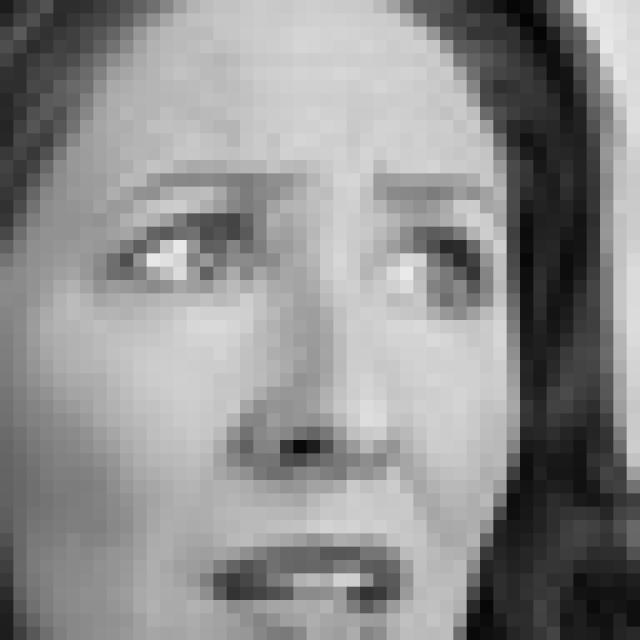fear: (100, 150, 497, 640)
